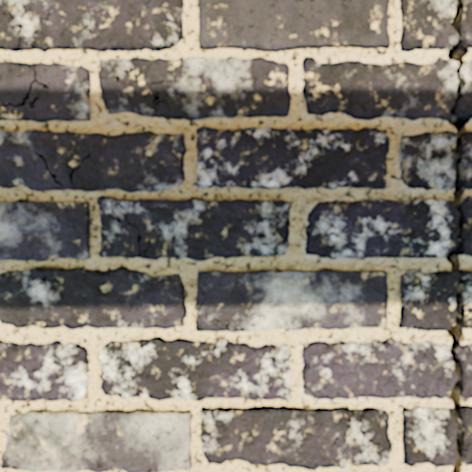brick: (98, 196, 289, 260), (99, 57, 290, 119), (200, 407, 391, 469), (196, 127, 388, 188), (1, 410, 191, 471), (100, 339, 290, 400), (0, 267, 186, 328), (0, 130, 185, 191), (196, 270, 387, 329), (198, 0, 389, 51), (0, 0, 183, 51), (0, 200, 89, 260), (0, 63, 90, 121), (0, 341, 88, 400), (0, 62, 32, 103), (196, 311, 234, 331)
broken_brick: (301, 56, 457, 121), (301, 338, 456, 400), (304, 197, 458, 259), (398, 269, 456, 331), (398, 130, 456, 191), (401, 406, 456, 467), (399, 0, 456, 52), (457, 58, 471, 116), (459, 342, 471, 399), (461, 405, 471, 466), (463, 195, 471, 256), (463, 270, 471, 329), (462, 0, 471, 48), (464, 130, 471, 189)
crack: (445, 0, 471, 471), (194, 287, 248, 331), (330, 409, 381, 454), (0, 63, 49, 108), (113, 213, 160, 258), (1, 3, 23, 49), (24, 318, 72, 329), (401, 12, 405, 30), (408, 408, 412, 414), (436, 408, 443, 410)
